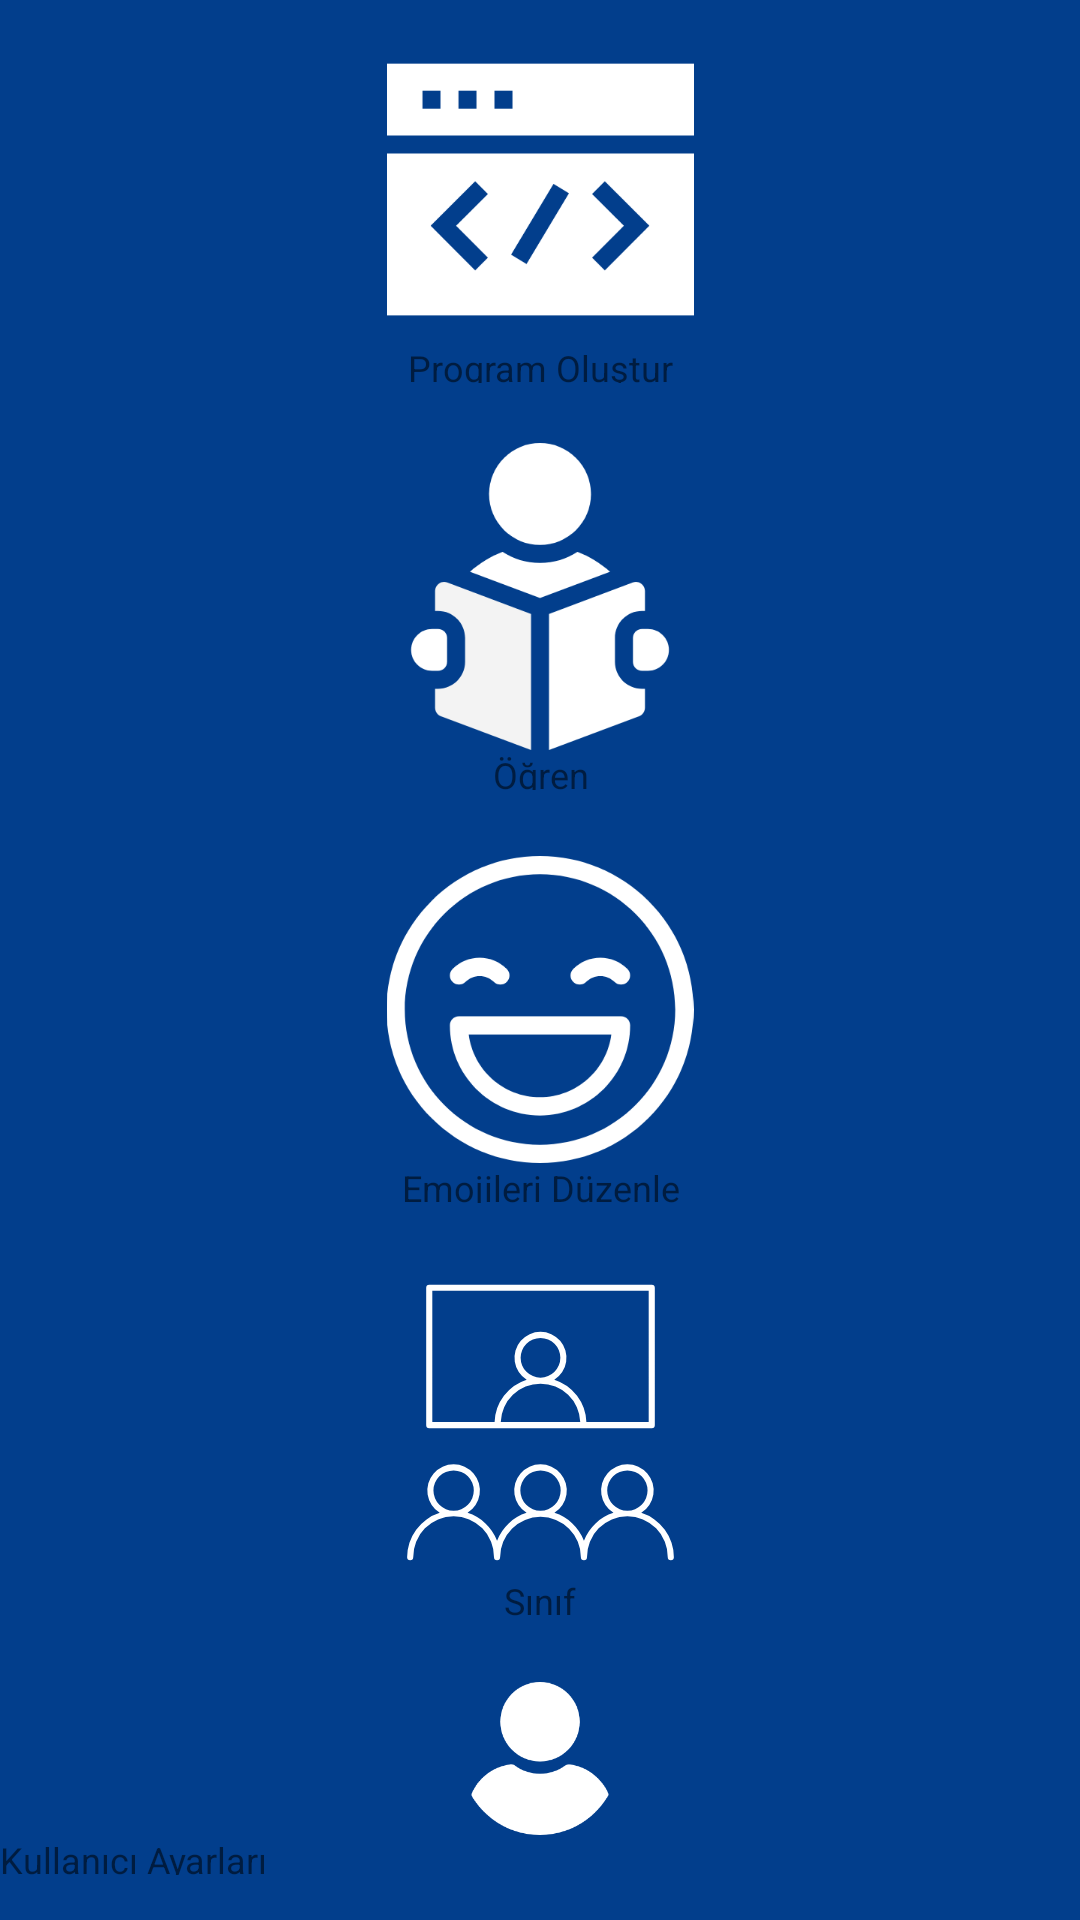

Where to tap for icons on this 1080px x 1920px app screen, as (x=x, y=y):
coding: (x=540, y=189)
happy: (x=540, y=1009)
tutorials: (x=540, y=596)
user: (x=540, y=1758)
